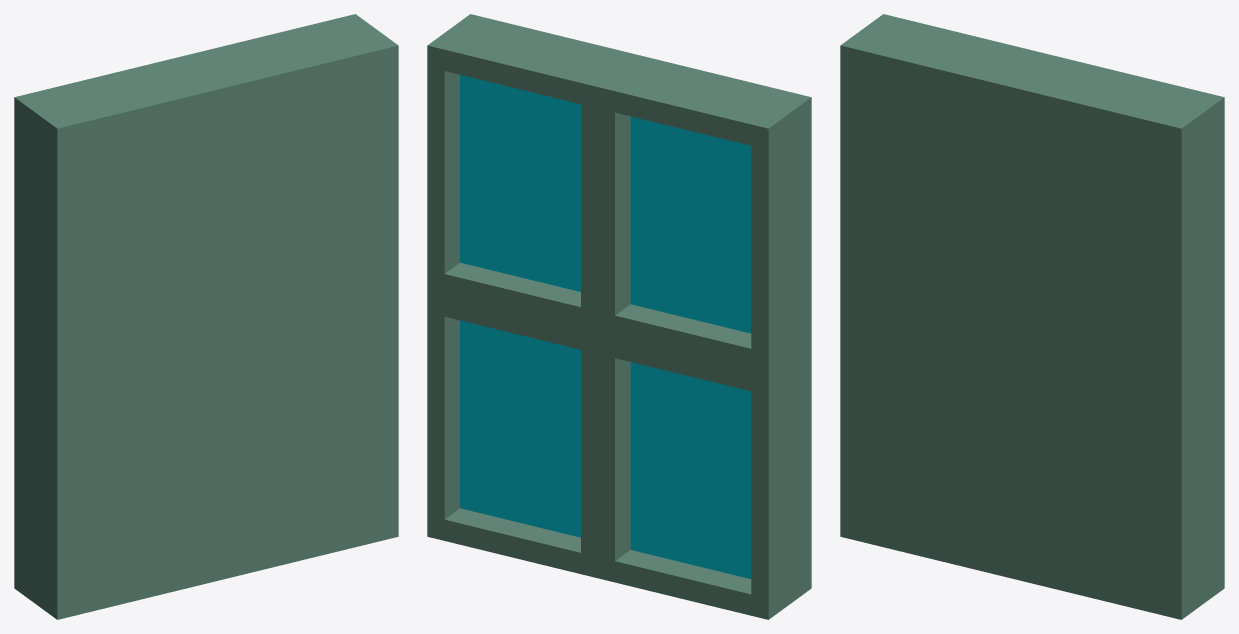
The model's file is window2.fbx.
3 views of the same model, side by side, from view 1: azimuth 30°, elevation 25°; view 2: azimuth 150°, elevation 25°; view 3: azimuth 330°, elevation 25° (orthographic).
Visible parts, largest first — view 1: window2; view 2: window2; view 3: window2.
Part boxes in pixels (<box>): window2: <box>14,14,398,619</box>; window2: <box>427,14,811,619</box>; window2: <box>840,14,1224,619</box>.
Size of the model in its own units: 322 by 444 by 70.39.
